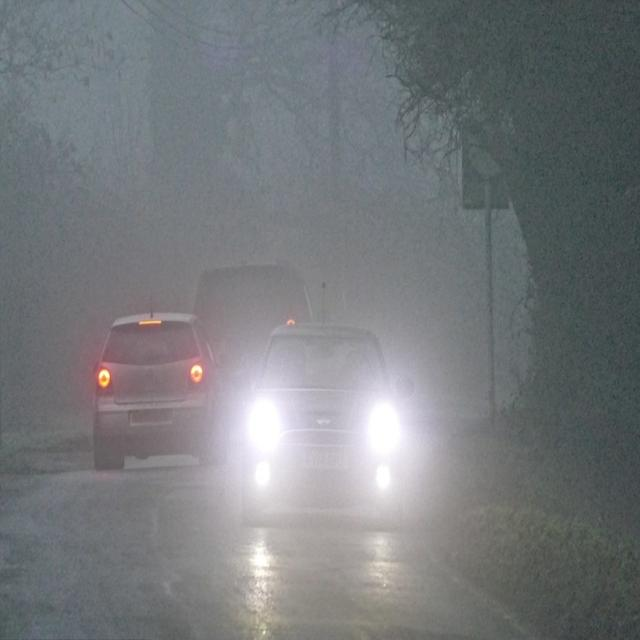car: (242, 318, 400, 520), (186, 262, 318, 490), (91, 308, 217, 470)
